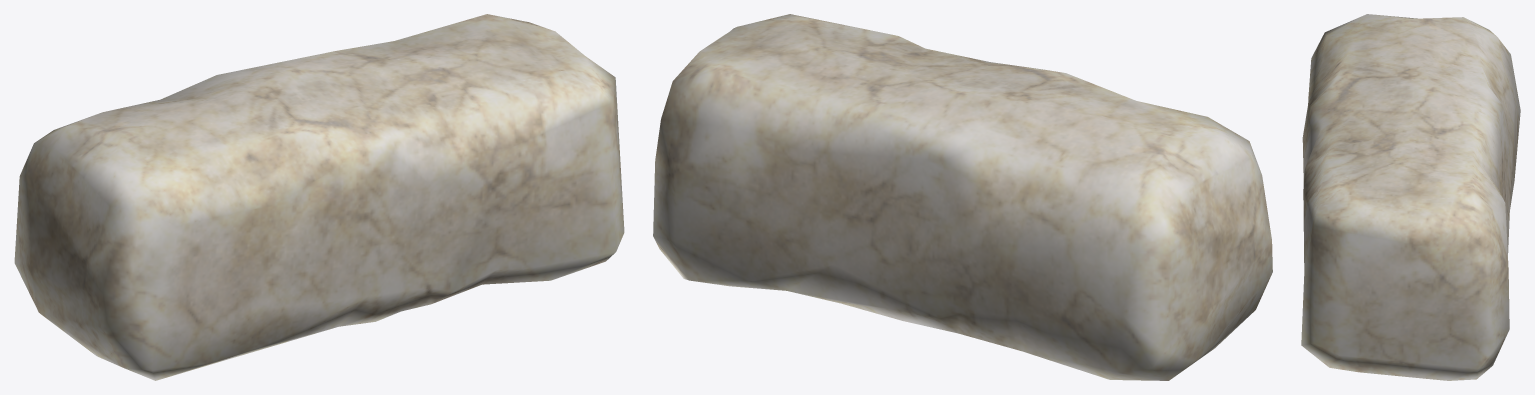
The model's file is SM_StoneRefined_6.fbx.
3 renders of one model, left to right at view 1: azimuth 30°, elevation 25°; view 2: azimuth 150°, elevation 25°; view 3: azimuth 270°, elevation 25°, orthographic. The views are drawn at different scales.
Parts seen in each view (by area): view 1: SM_StoneRefined_6_LOD0; view 2: SM_StoneRefined_6_LOD0; view 3: SM_StoneRefined_6_LOD0.
Boxes of the visible parts, x1,y1,x2,y2 form: SM_StoneRefined_6_LOD0: (14,14,624,380); SM_StoneRefined_6_LOD0: (653,14,1272,380); SM_StoneRefined_6_LOD0: (1301,14,1520,380).
Size of what is drawn, in the model's own units: 0.6499 by 0.2602 by 0.2742.
